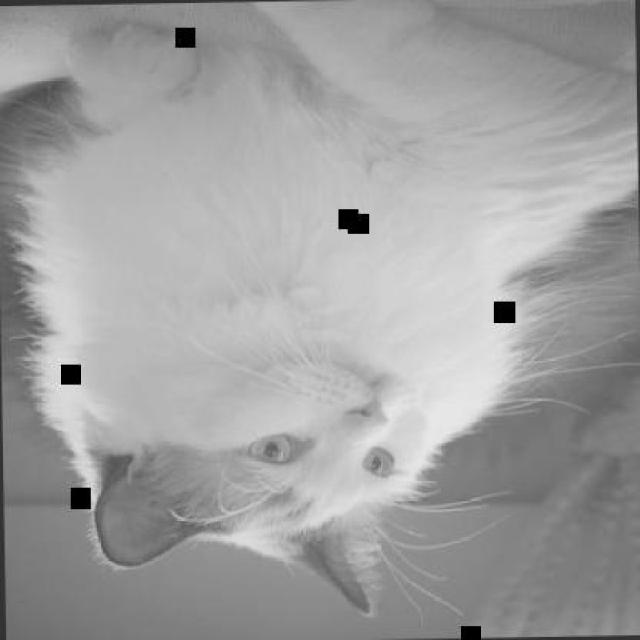cat: (4, 0, 638, 623)
